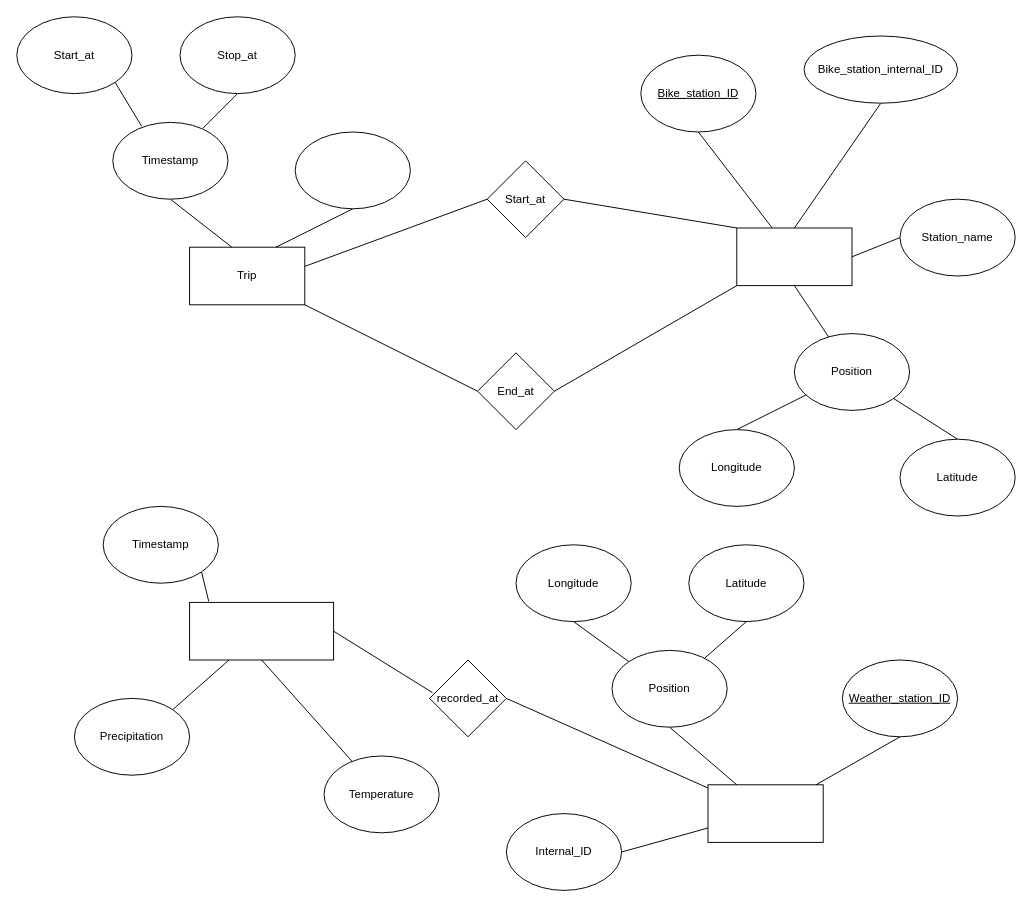
Some shapes in this 1032 by 907 pixel diagram are drawn without their labels. The centre of each missing label's shape, as x and y in pixels:
"Bike_station" goes at (794,256).
"Trip_ID" goes at (352,170).
"Weather_measurement" goes at (261,630).
"Weather_station" goes at (765,813).
